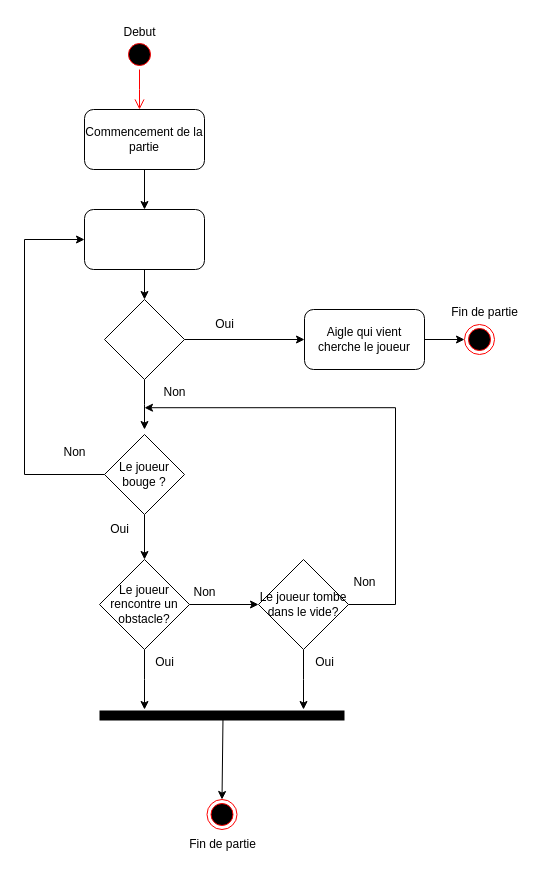
This 547x876 diagram has some shape labels left out. The shapes that lost their labels are listed below. From the top down, each one's centre as x and y in pixels, then its label:
(144,239): Debut du timer d'inactivité
(144,339): Timer achevé?
